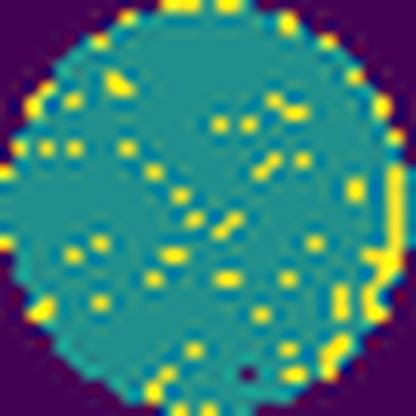Scratch: (356, 163, 406, 323)
